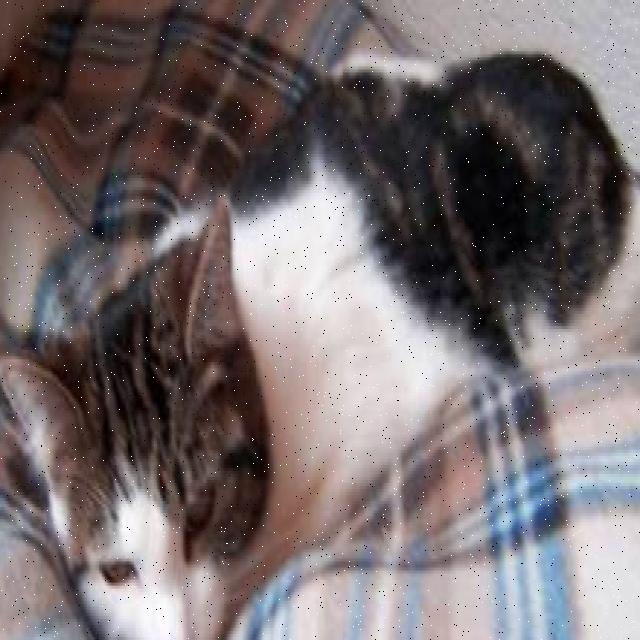Cat: (10, 196, 264, 640)
